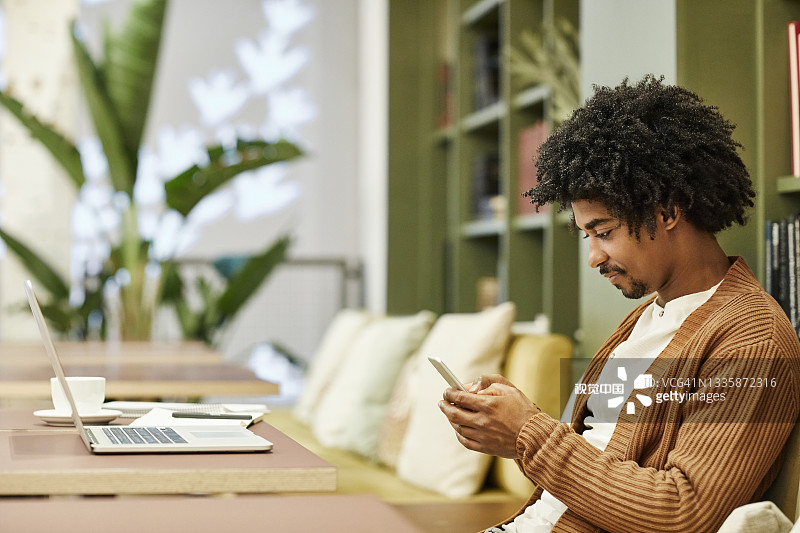reading: (422, 338, 547, 467)
